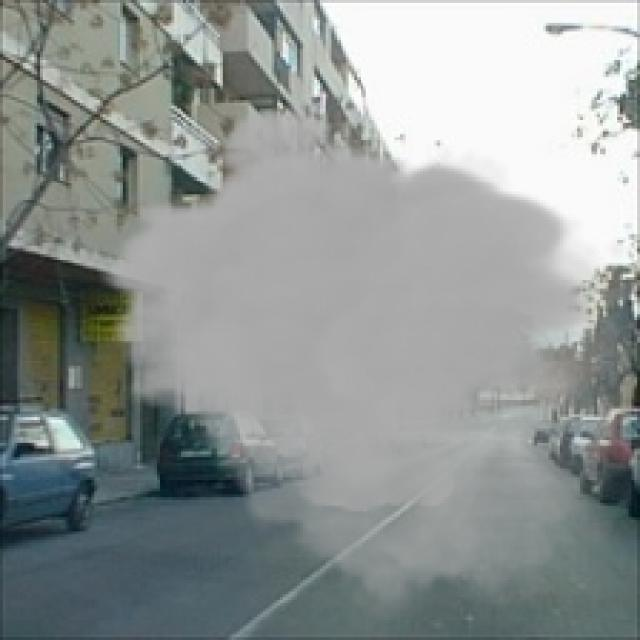Smoke: (99, 103, 632, 623)
